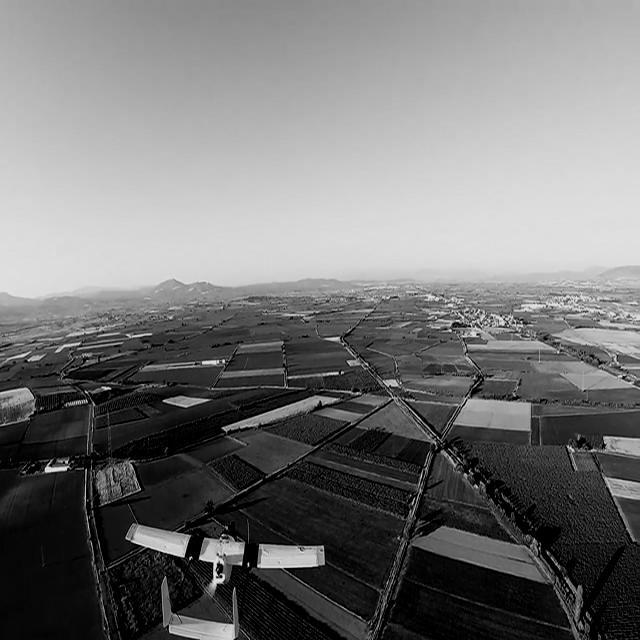iha: (120, 556, 334, 608)
